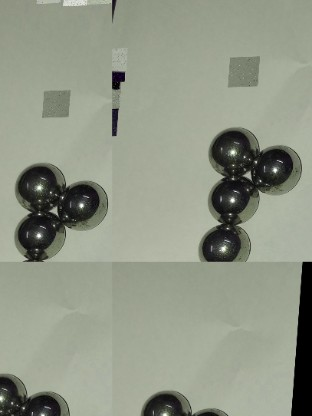ironball: (249, 135, 309, 195), (10, 160, 66, 218), (202, 124, 262, 175), (11, 213, 71, 262), (205, 175, 264, 224), (59, 175, 110, 231), (199, 227, 252, 264), (0, 365, 29, 416), (21, 386, 71, 414), (142, 386, 191, 414), (231, 57, 263, 88), (45, 91, 73, 119), (112, 48, 130, 82), (192, 402, 232, 414), (112, 82, 124, 110), (112, 108, 122, 137), (64, 0, 90, 7)
